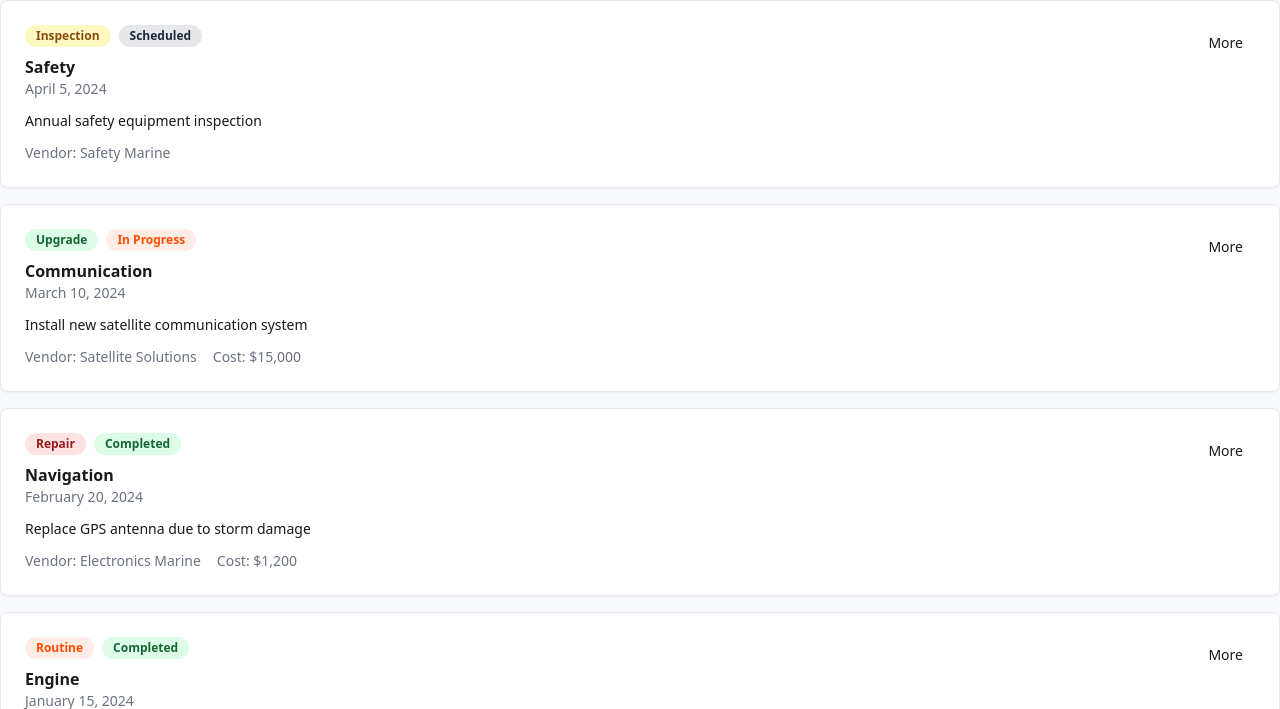
Test case: MaintenanceHistory › allows expanding record details
Click the button with test id "expand-record-2024-04-05-Safety-inspection": {"x": 1226, "y": 43} [1196, 25, 1255, 61]
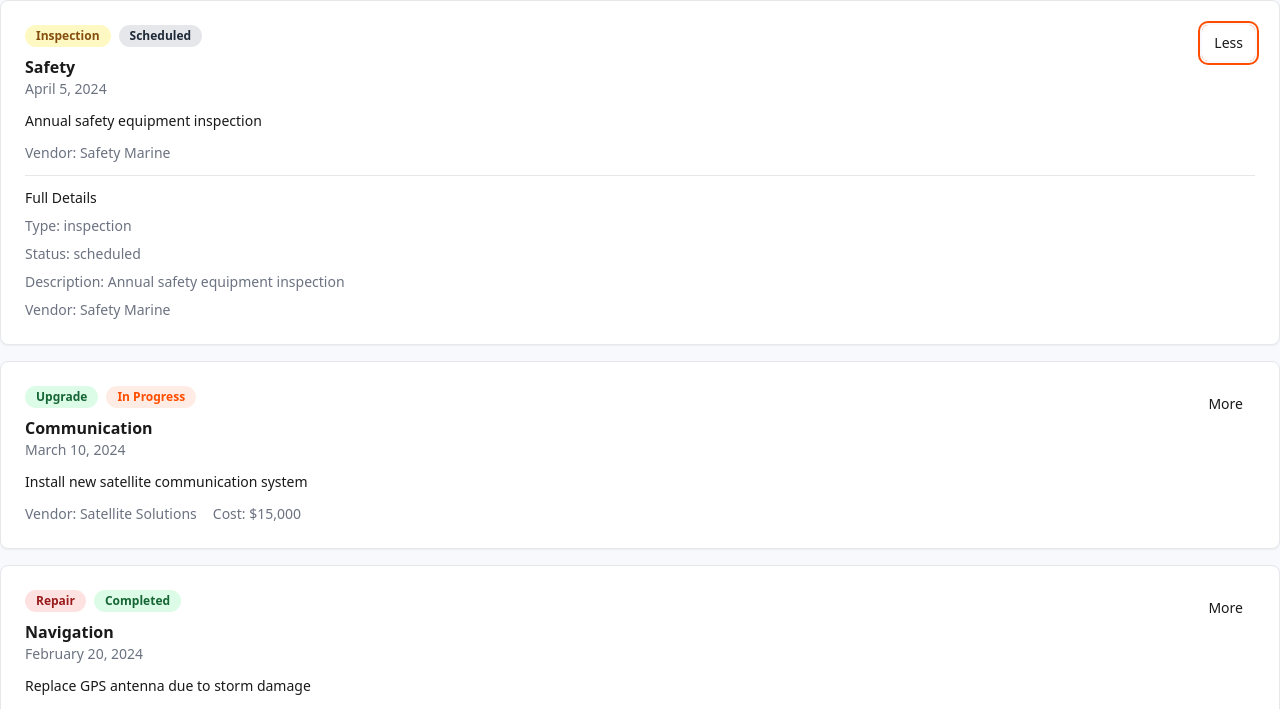
expect the text "Full Details" is shown: met, box [25, 188, 97, 207]
